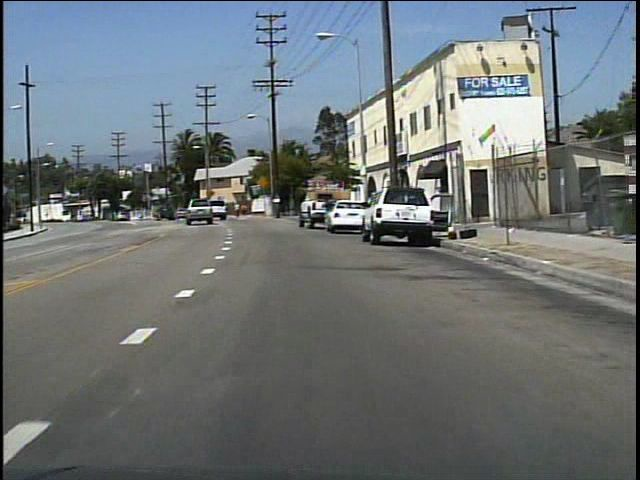person: (319, 193, 337, 232), (233, 199, 242, 220), (241, 201, 249, 219)
